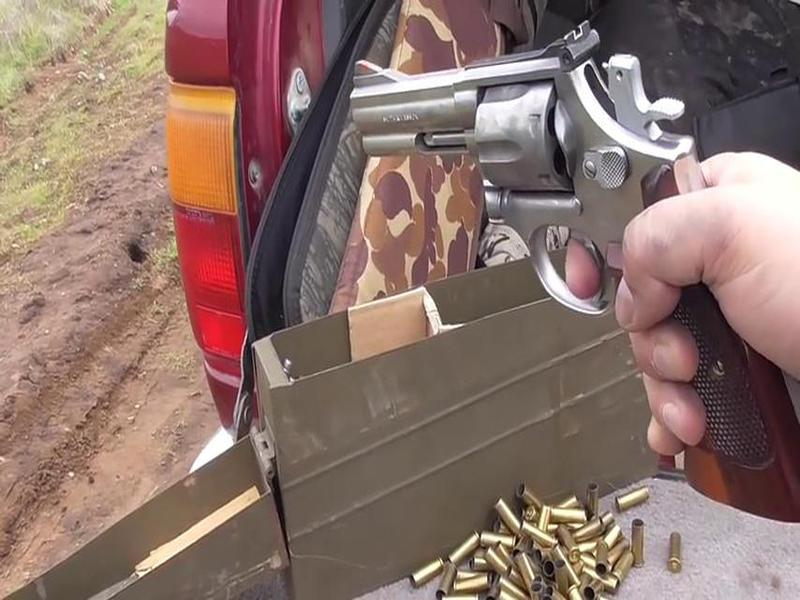Revolver: (348, 30, 737, 422)
